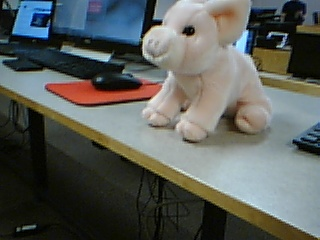piggy: (141, 1, 274, 144)
